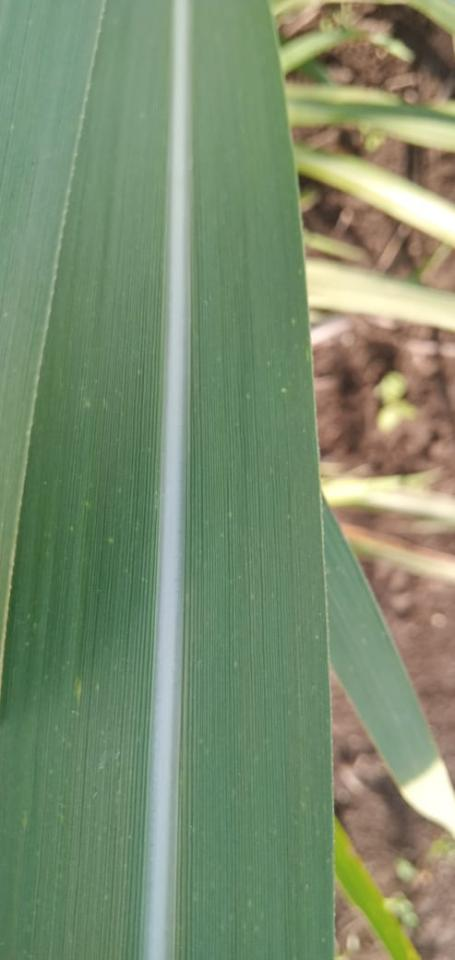Healthy: (0, 0, 334, 959), (0, 0, 102, 654), (322, 500, 454, 834)
